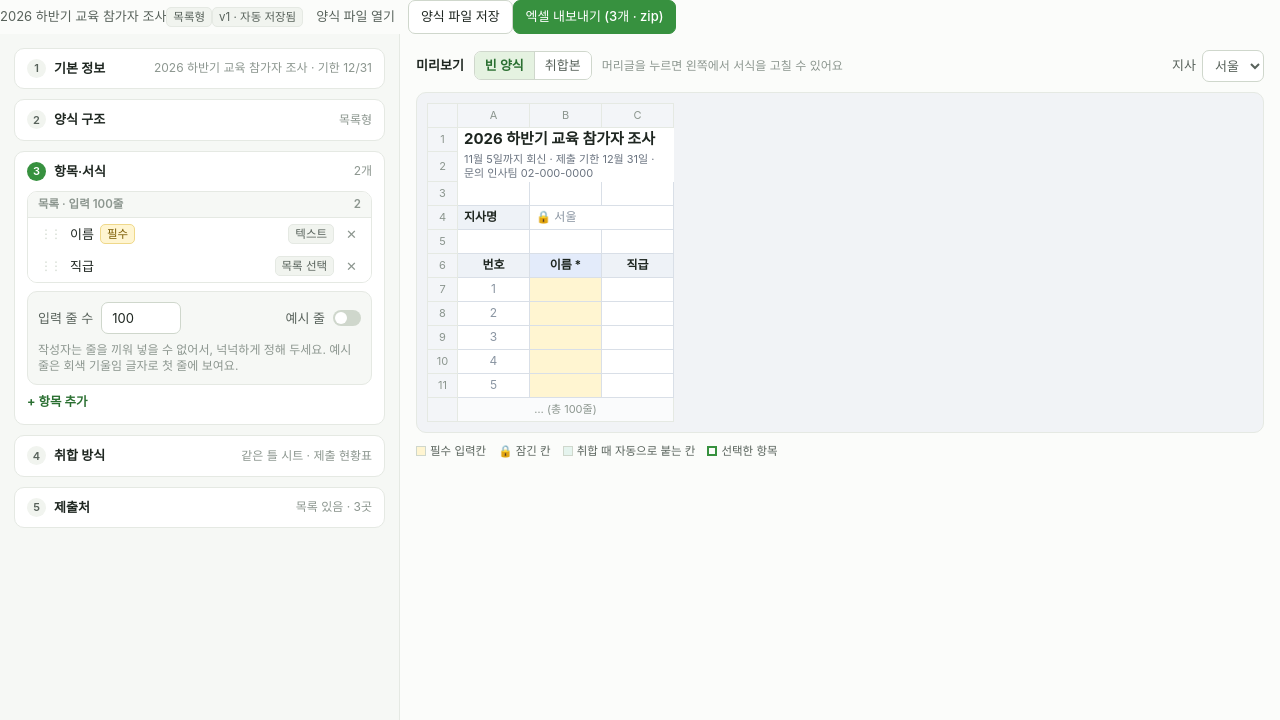
Test: 기한이 들어 있으면 ①을 건너뛰고 바로 ② 확인
Click the button "엑셀 내보내기 (3개 · zip)": (595, 17) [513,0,676,34]
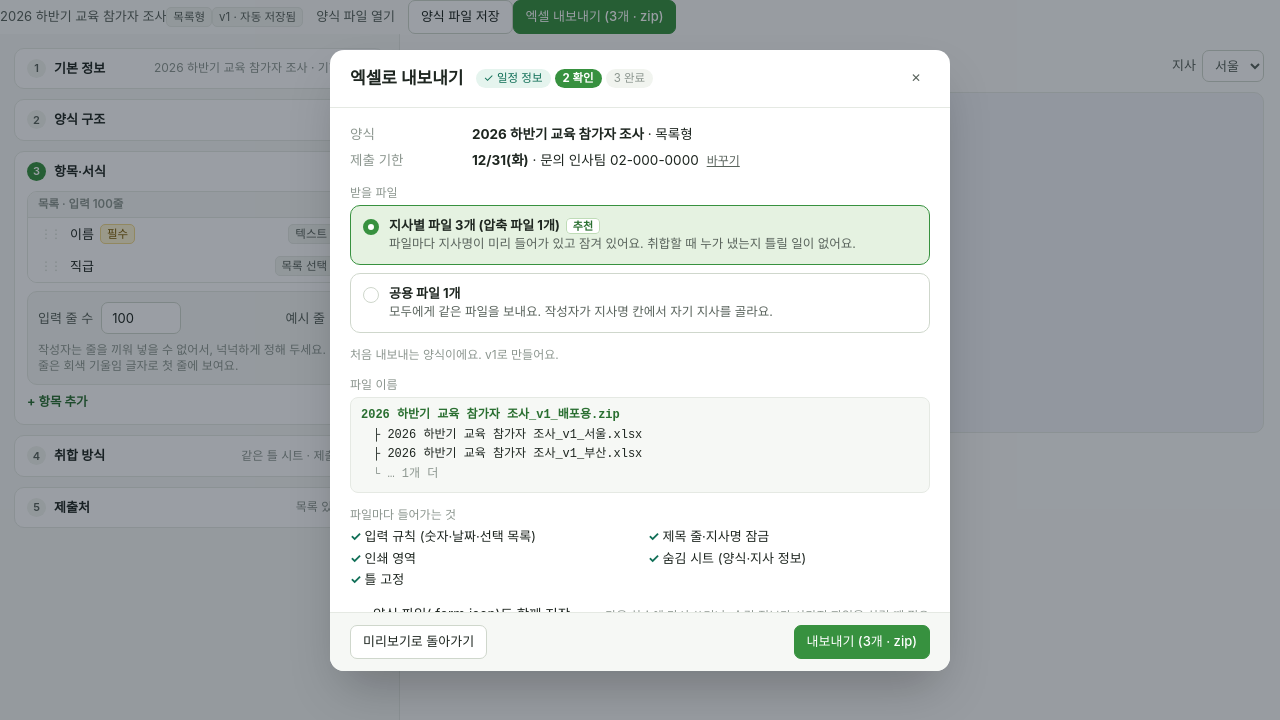
Check: the button "내보내기 (3개 · zip)" is shown, box [794,625,930,658]
